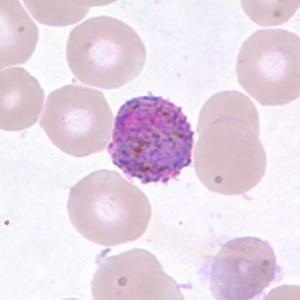Infected: (105, 94, 195, 185)
Uninfected: (67, 172, 154, 244), (67, 16, 144, 91), (194, 120, 268, 193), (235, 29, 300, 104), (46, 86, 113, 158), (210, 237, 279, 300), (195, 88, 262, 151)
